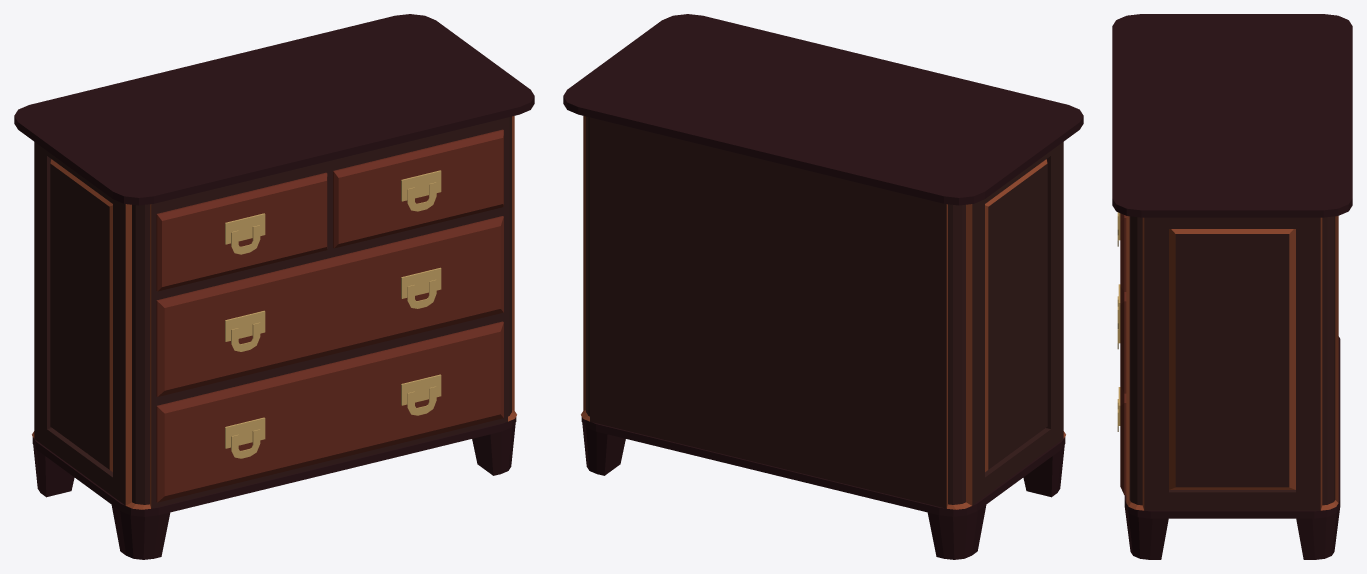
The model's file is ComodaTV.fbx.
The picture shows the model from 3 angles, left to right: view 1: azimuth 30°, elevation 25°; view 2: azimuth 150°, elevation 25°; view 3: azimuth 270°, elevation 25°; orthographic projection. The views are drawn at different scales.
Visible parts, largest first — view 1: Circle, Cube.003, Cube, Circle.001, Cube.005, Cube.001, Cube.004, Cube.002; view 2: Cube, Cube.003, Cube.005, Cube.004; view 3: Cube, Cube.003, Cube.005, Cube.004, Circle, Circle.001, Cube.001.
Boxes of the visible parts, <box> form: Circle: <box>156,216,503,502</box>; Cube.003: <box>14,14,534,205</box>; Cube: <box>32,116,516,509</box>; Circle.001: <box>156,129,503,291</box>; Cube.005: <box>33,423,515,559</box>; Cube.001: <box>225,267,441,458</box>; Cube.004: <box>32,417,516,516</box>; Cube.002: <box>225,170,441,254</box>; Cube: <box>581,116,1065,509</box>; Cube.003: <box>563,14,1083,205</box>; Cube.005: <box>582,423,1064,559</box>; Cube.004: <box>581,417,1065,516</box>; Cube: <box>1126,216,1338,510</box>; Cube.003: <box>1112,14,1352,217</box>; Cube.005: <box>1125,508,1339,559</box>; Cube.004: <box>1124,336,1340,518</box>; Circle: <box>1120,286,1126,495</box>; Circle.001: <box>1120,213,1126,291</box>; Cube.001: <box>1117,229,1120,431</box>.
Size of the model in its own units: 116 by 98.61 by 60.
